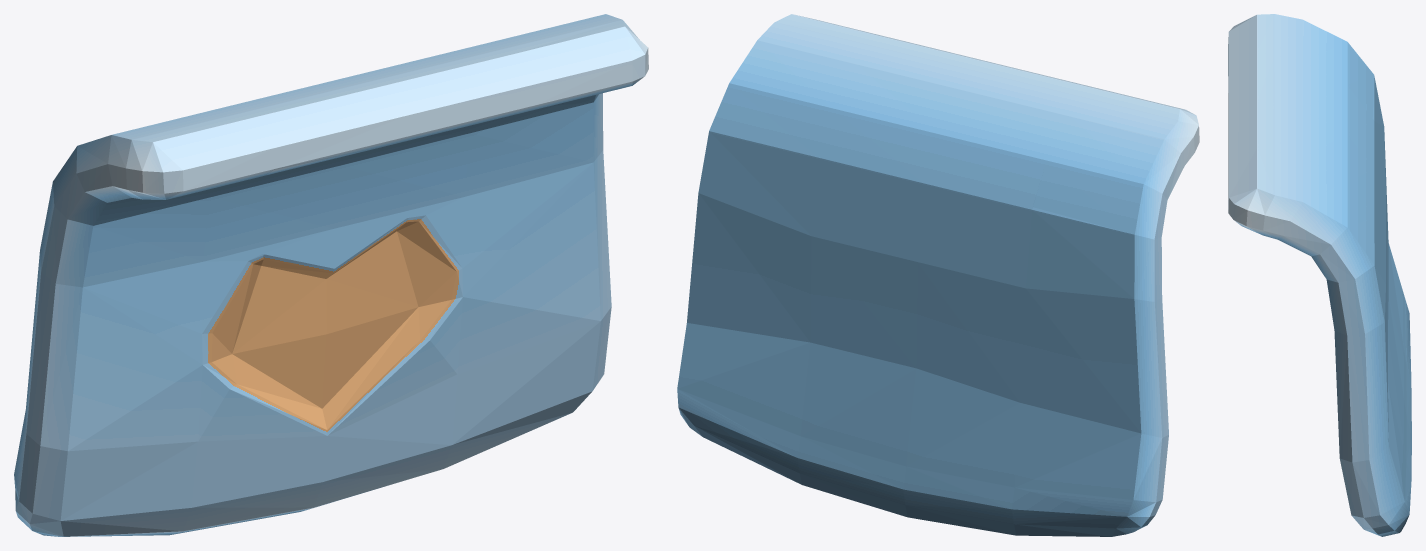
The model's file is CharSkyKid_Prop_Swing.glb.
3 views of the same model, side by side, from view 1: azimuth 30°, elevation 25°; view 2: azimuth 150°, elevation 25°; view 3: azimuth 270°, elevation 25° (orthographic). The views are drawn at different scales.
Visible parts, largest first — view 1: CharSkyKid_Prop_Swing; view 2: CharSkyKid_Prop_Swing; view 3: CharSkyKid_Prop_Swing.
Boxes of the visible parts, box(x1,y1,x2,y2) form: CharSkyKid_Prop_Swing: box(14, 14, 648, 536); CharSkyKid_Prop_Swing: box(677, 14, 1199, 536); CharSkyKid_Prop_Swing: box(1228, 14, 1411, 536).
Bounding box in the file's own units: 3.32 × 2.69 × 1.21.
Materials: 1 (1 with a texture image).
